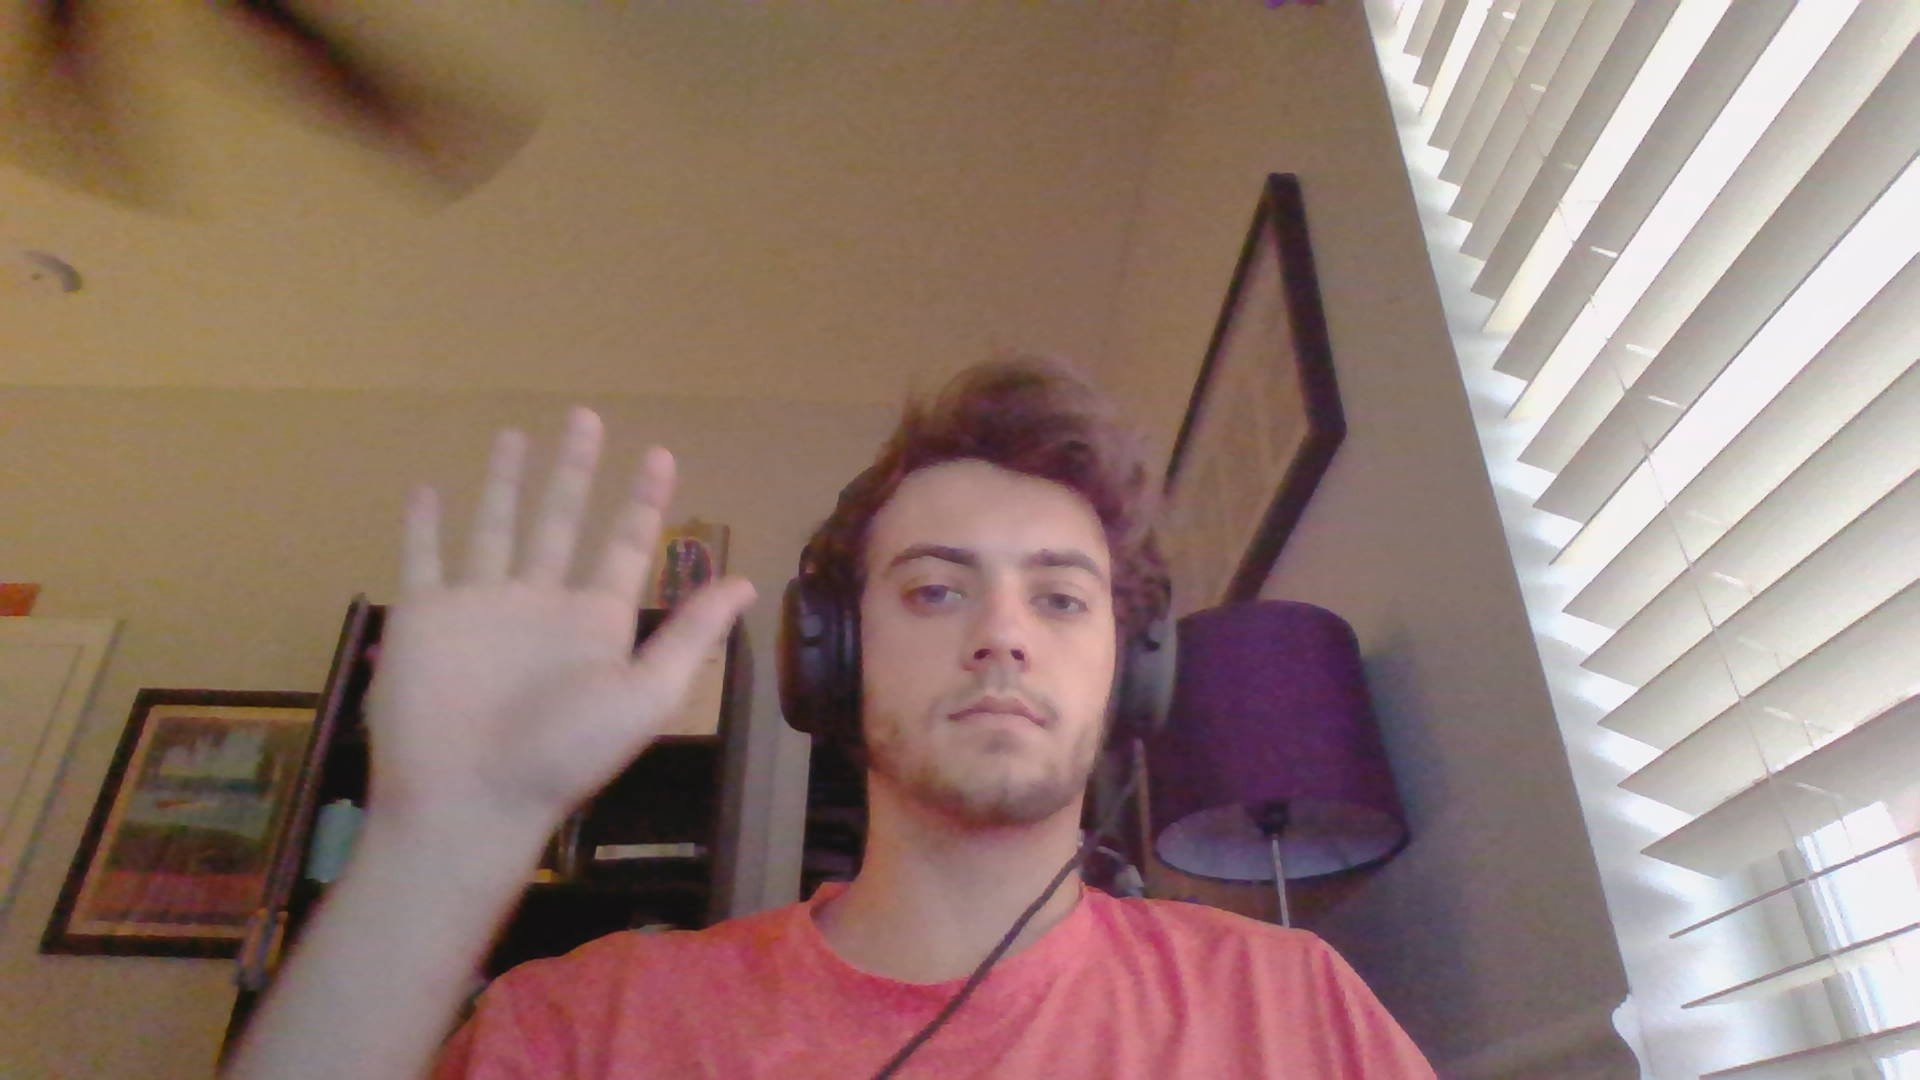Right Palm Up: (349, 401, 762, 831)
